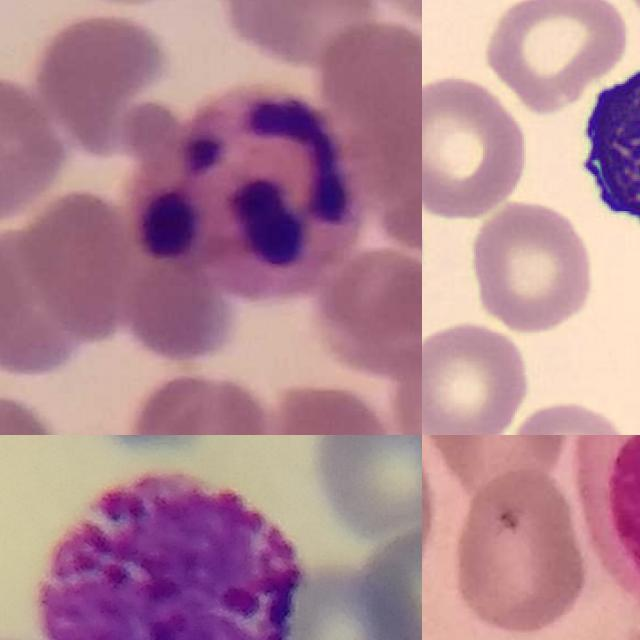Basophil: (38, 470, 309, 640)
Lymphocyte: (565, 27, 640, 253)
Monocyte: (572, 435, 640, 616)
Neutrophil: (135, 85, 361, 297)
RBC: (465, 197, 599, 336), (479, 0, 630, 112), (422, 70, 532, 220), (422, 320, 533, 435), (502, 396, 640, 435)
